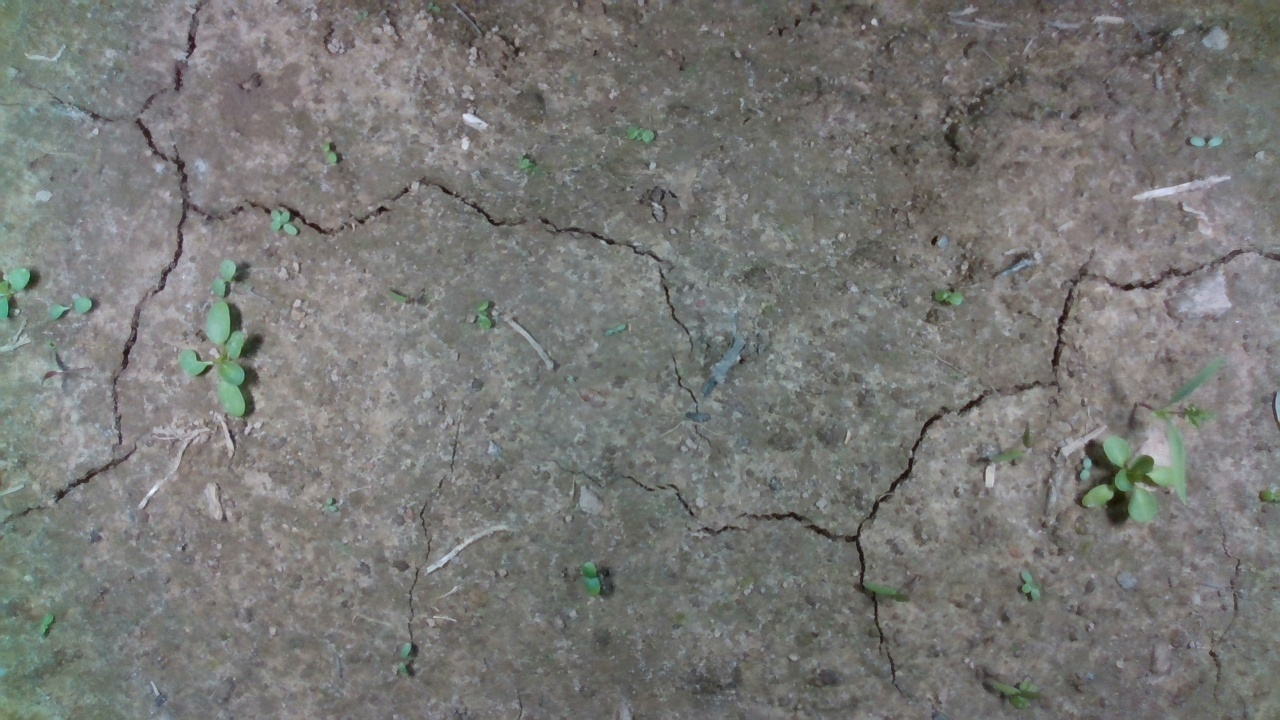weed: (260, 203, 303, 242), (574, 560, 611, 600), (43, 294, 96, 321), (1016, 563, 1046, 602), (211, 258, 238, 297), (468, 298, 499, 326), (933, 285, 965, 307), (632, 125, 663, 145), (317, 140, 339, 167)
